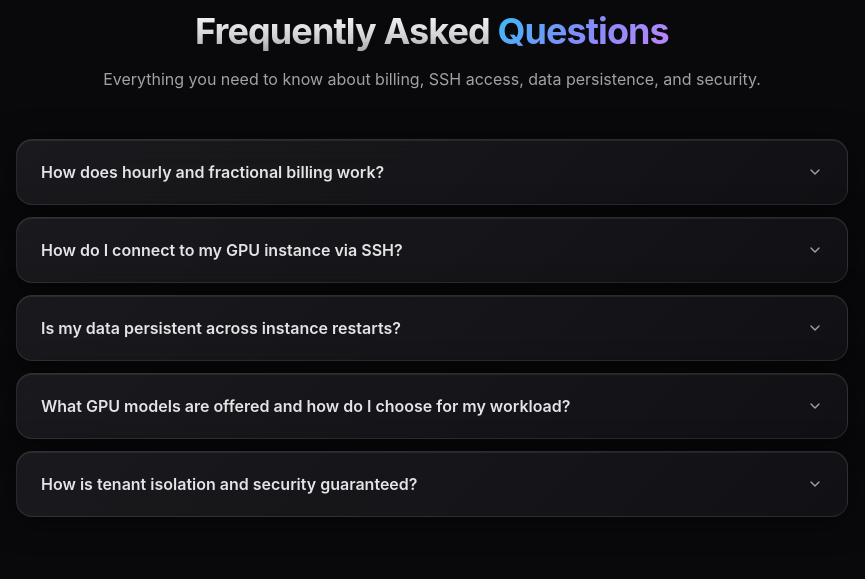
Test: Tier 1: Comprehensive Feature Coverage (16 Features, ≥5 Tests Each) › Feature 14: Collapsible FAQ Accordion › 14.4: FAQ accordion toggle state toggles open/close correctly
The width and height of the screenshot is (865, 579).
Click the button "How does hourly and fractional billing work?".
click(213, 172)  # box [17, 140, 847, 204]
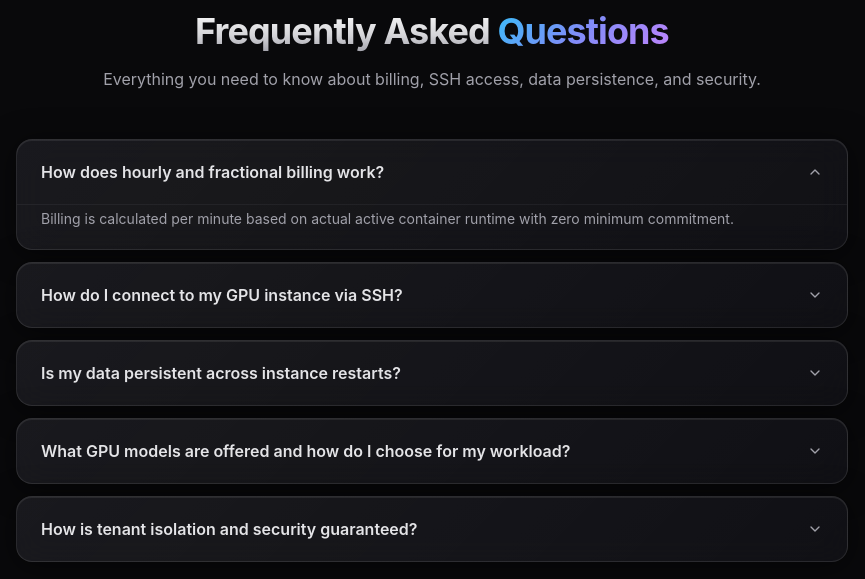
Expected: the button "How does hourly and fractional billing work?" is expanded
Expected: the text "Billing is calculated per minute" is shown, [41, 210, 734, 227]
Click the button "How does hourly and fractional billing work?".
click(213, 172)  # box [17, 140, 847, 204]
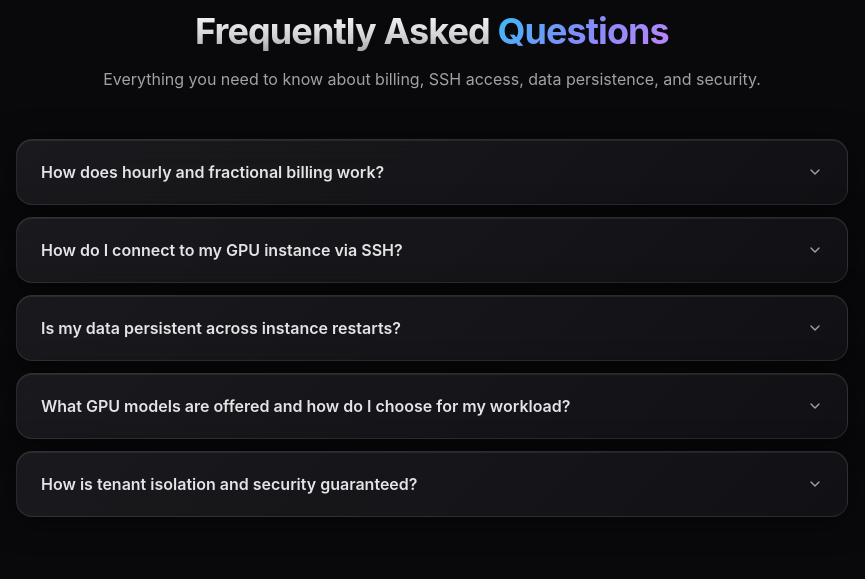
Expected: the button "How does hourly and fractional billing work?" is collapsed, [17, 140, 847, 204]
